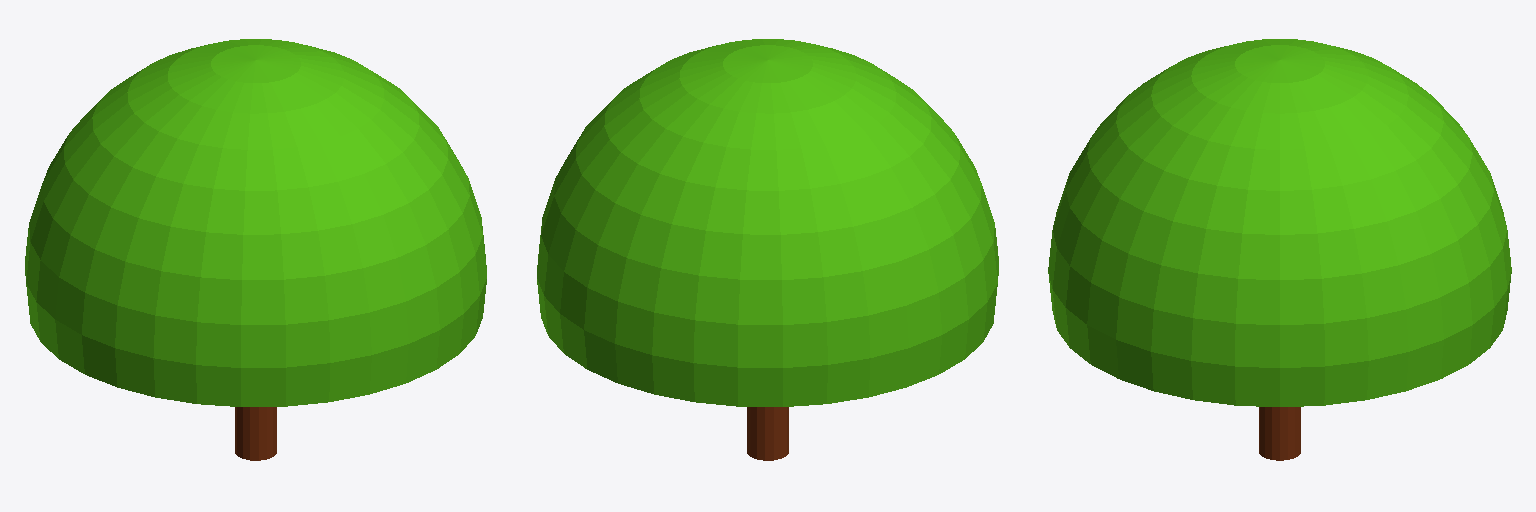
Rendered from tree.obj.
3 views of the same model, side by side, from view 1: azimuth 30°, elevation 25°; view 2: azimuth 150°, elevation 25°; view 3: azimuth 270°, elevation 25° (orthographic).
Visible parts, largest first — view 1: sphere2, cylinder4; view 2: sphere2, cylinder4; view 3: sphere2, cylinder4.
Part boxes in pixels (x1,y1,x2,y2): sphere2: (25,39,486,406); cylinder4: (235,407,276,460); sphere2: (537,39,998,406); cylinder4: (747,407,788,460); sphere2: (1048,39,1511,406); cylinder4: (1259,407,1300,460).
Bounding box in the file's own units: 21.68 × 20.19 × 21.68.